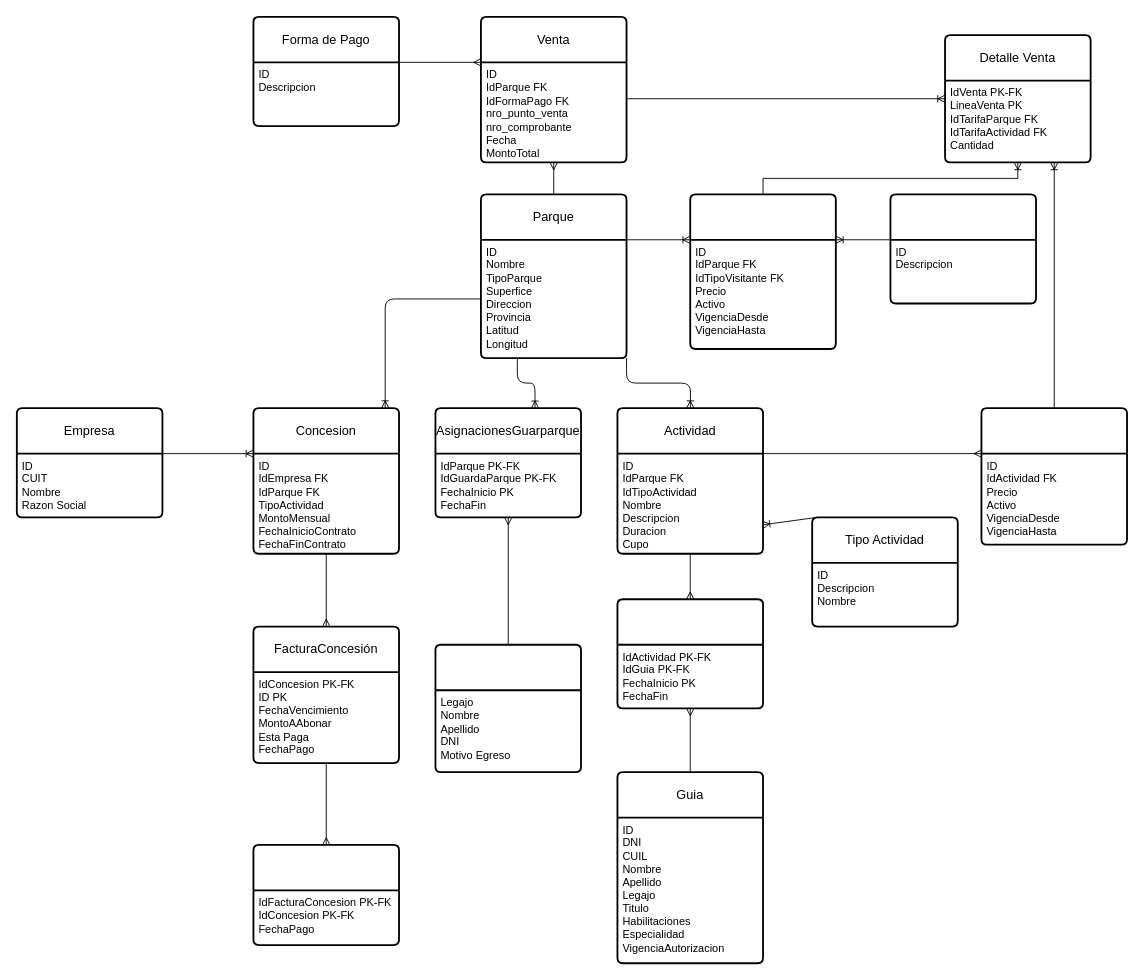
This 1143x979 diagram has some shape labels left out. The shapes that lost their labels are listed below. From the top down, each one's box as (x1, y1, x2, y2) in pixels, then its label:
(889, 193, 1036, 304): Tipo Visitante
(689, 193, 836, 349): Tarifa Parque
(980, 407, 1127, 545): TarifaActividad
(616, 598, 763, 709): GuiaActividad
(434, 643, 581, 773): Guardaparque
(252, 844, 399, 945): PagoConcesión
